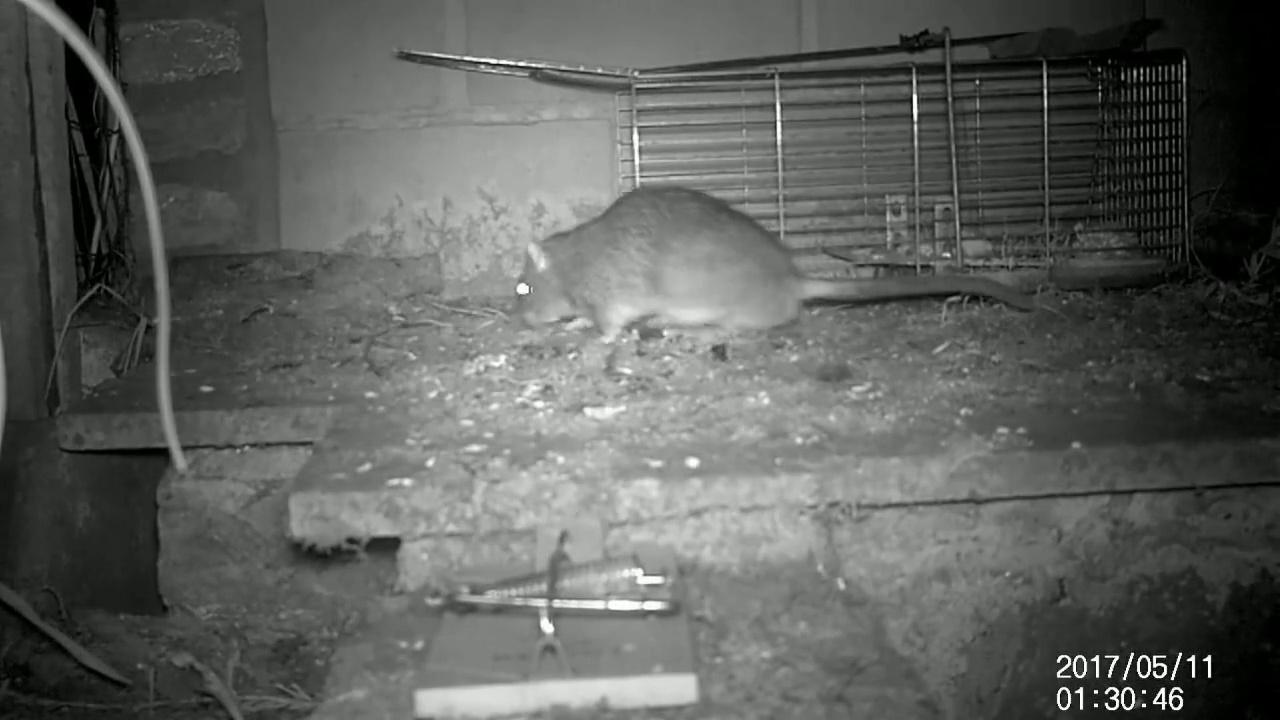rat: (511, 177, 820, 343)
